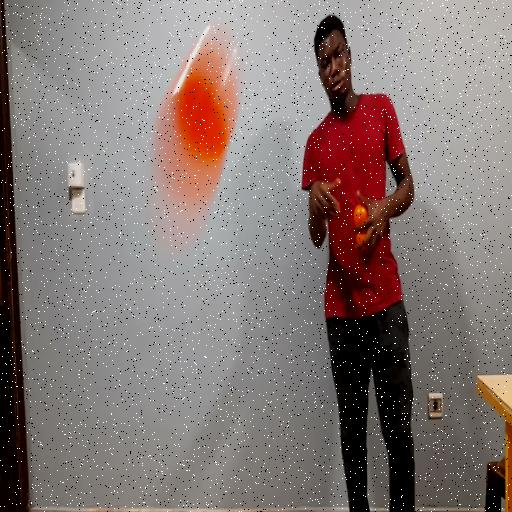plastic-ball: (154, 26, 241, 224)
